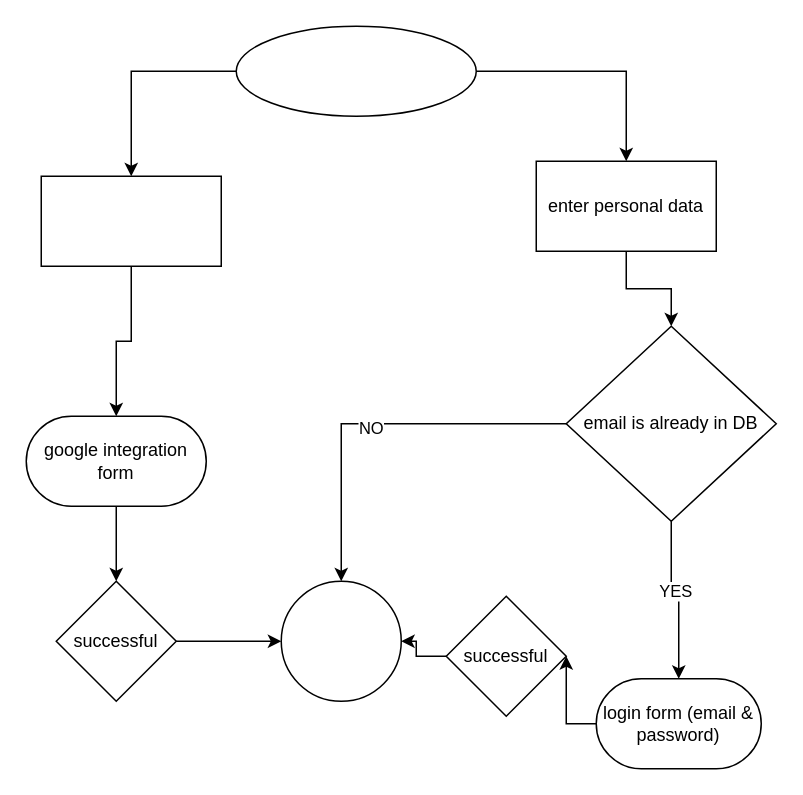
Image size: 803x795. Some labels were removed from this diagram. Each missing label, with the box of its shape:
create account: (280, 580, 401, 701)
signup via (google, facebook): (40, 175, 221, 266)
user clicks signup: (235, 25, 476, 116)
